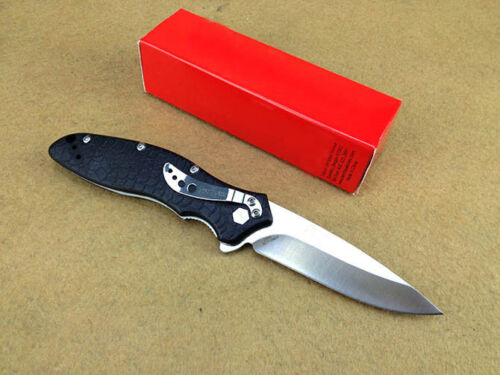knief: (35, 123, 443, 337)
